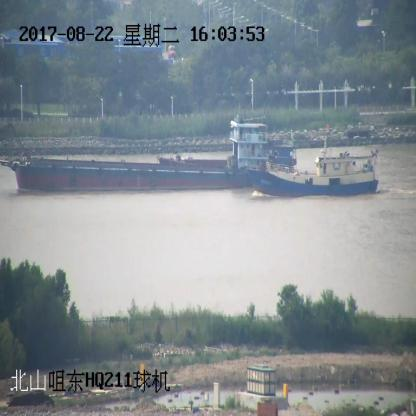Fishing Boat: (248, 124, 380, 197)
